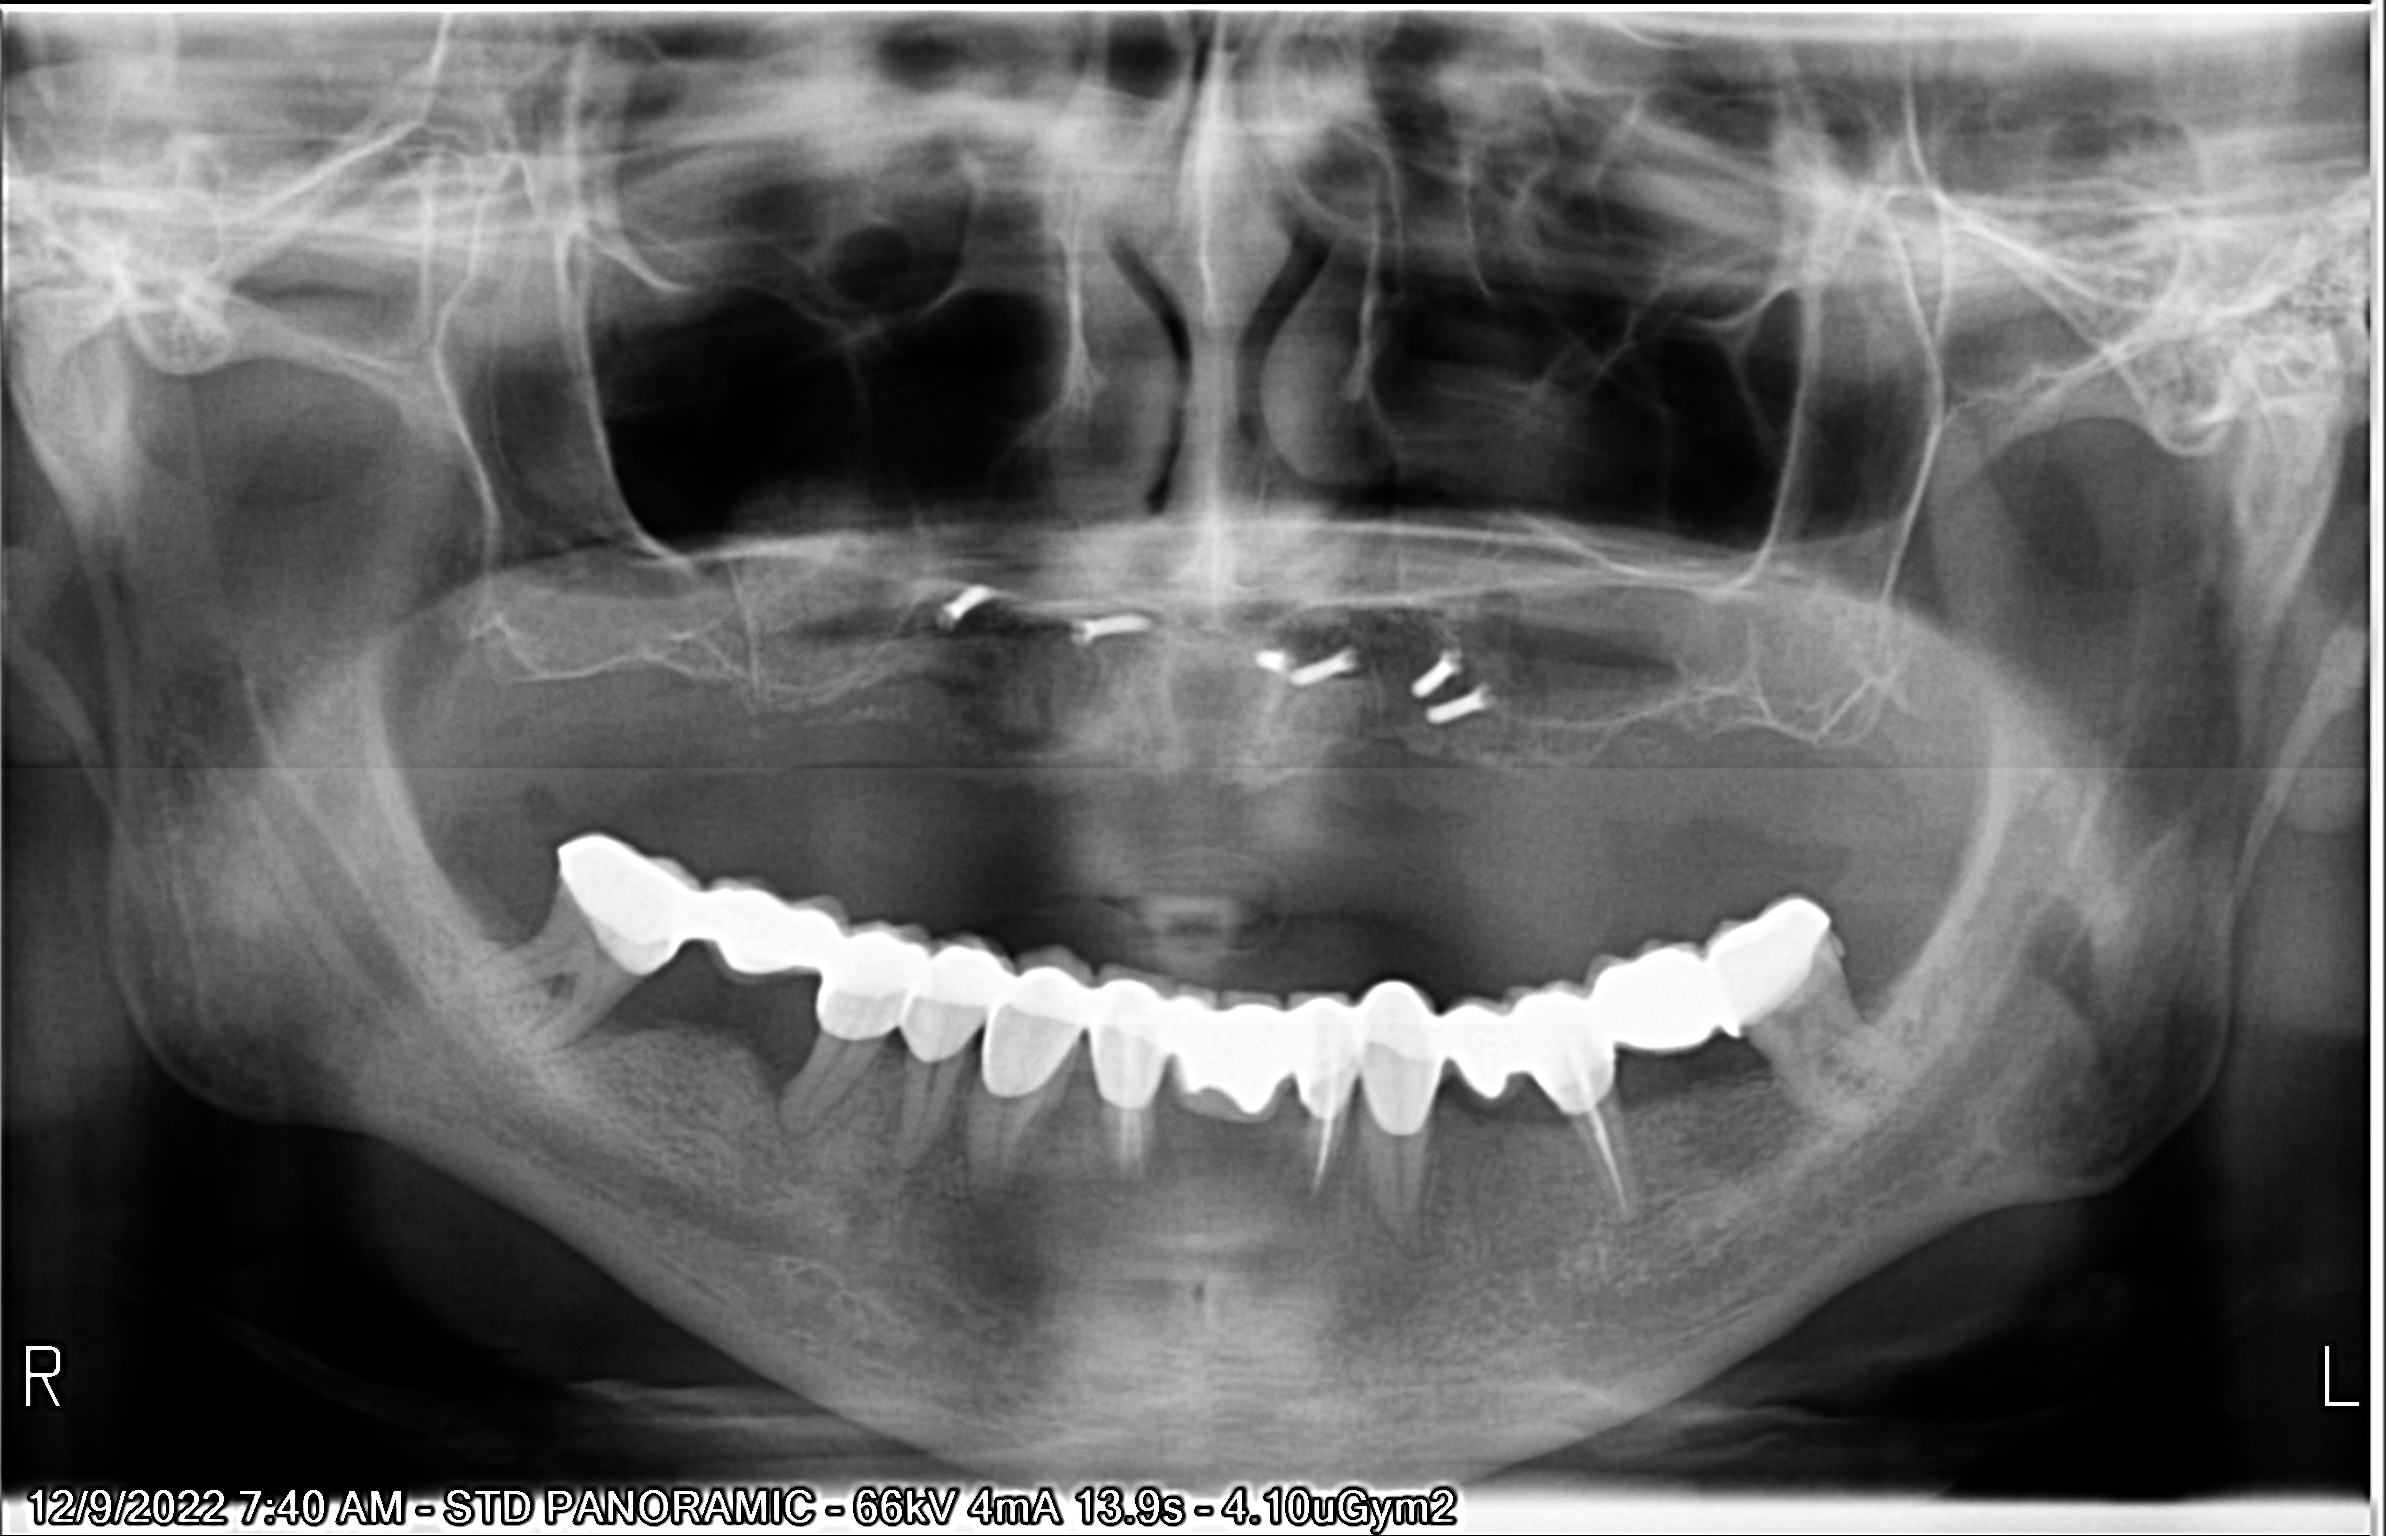BON: (572, 967, 685, 1068), (725, 1011, 810, 1143)
END: (1530, 1098, 1675, 1245), (1264, 1117, 1355, 1254), (1090, 1099, 1172, 1228)
FUR: (515, 936, 607, 1025)
PRR: (546, 816, 1866, 1134)
SRD: (1049, 576, 1203, 666), (896, 548, 1009, 663), (1400, 652, 1543, 743), (1273, 630, 1374, 706), (1398, 628, 1482, 715), (1230, 619, 1327, 691)
